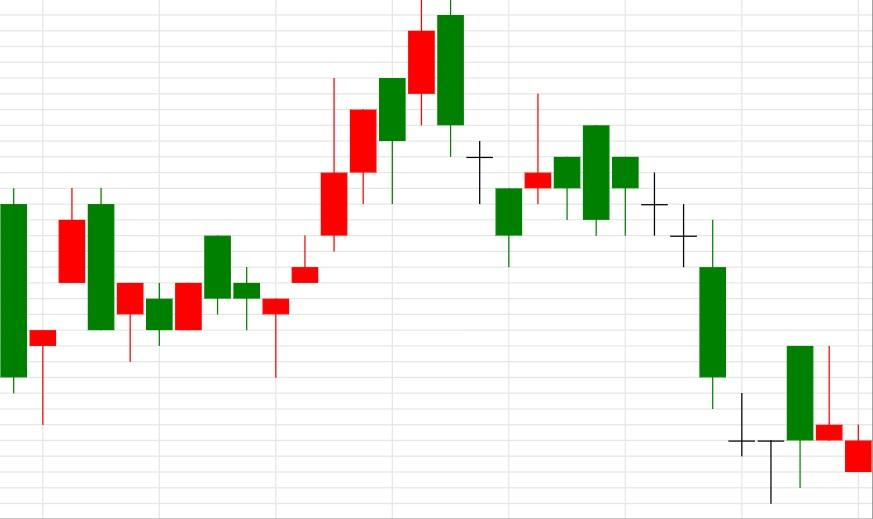bearish_engulfing_fall: (262, 0, 465, 378)
three_white_soldiers_rise: (203, 76, 349, 377)
